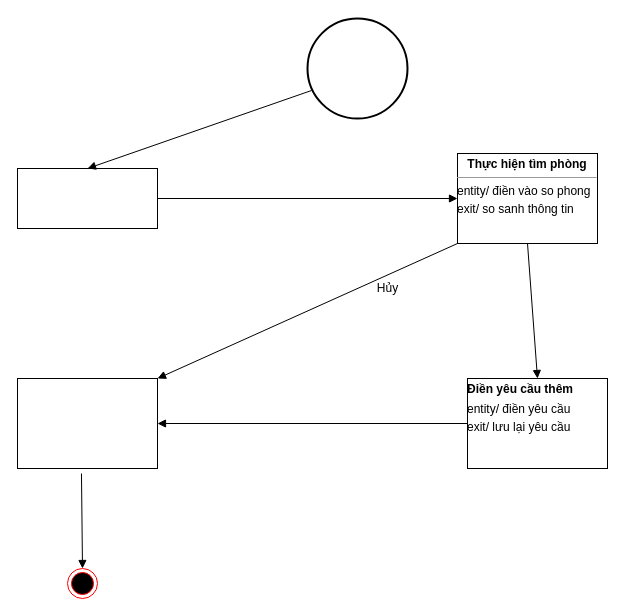
This 625x616 diagram has some shape labels left out. The shapes that lost their labels are listed below. From the top down, each one's centre as x and y in pixels, then its label:
At point 87,198: "Khởi tạo màn hình do/ khởi tạo".
At point 87,423: "Kết thúc do/ Kết thúc yêu cầu".
